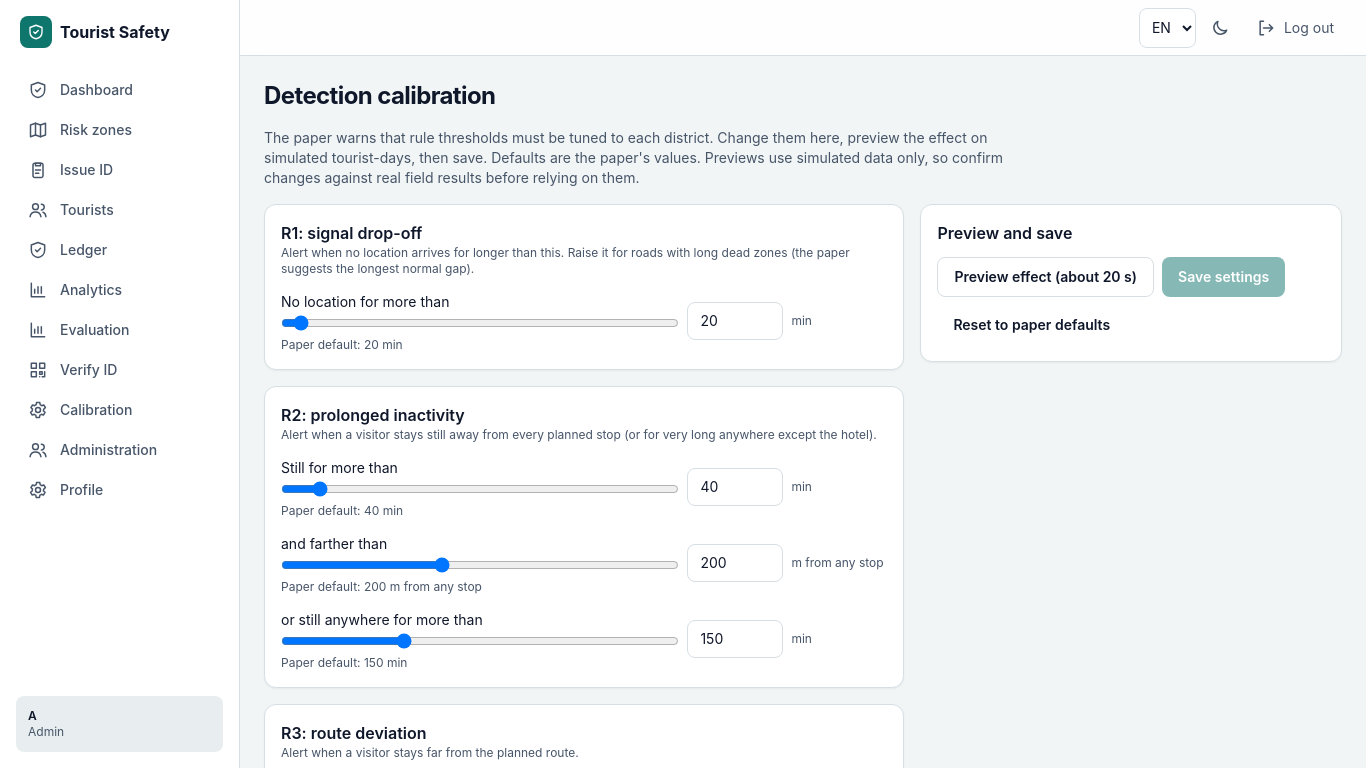
Test: preview and save errors are shown
This screenshot has width=1366, height=768.
Click the button "Preview effect (about 20 s)".
click(1046, 277)  # box [937,257,1154,297]
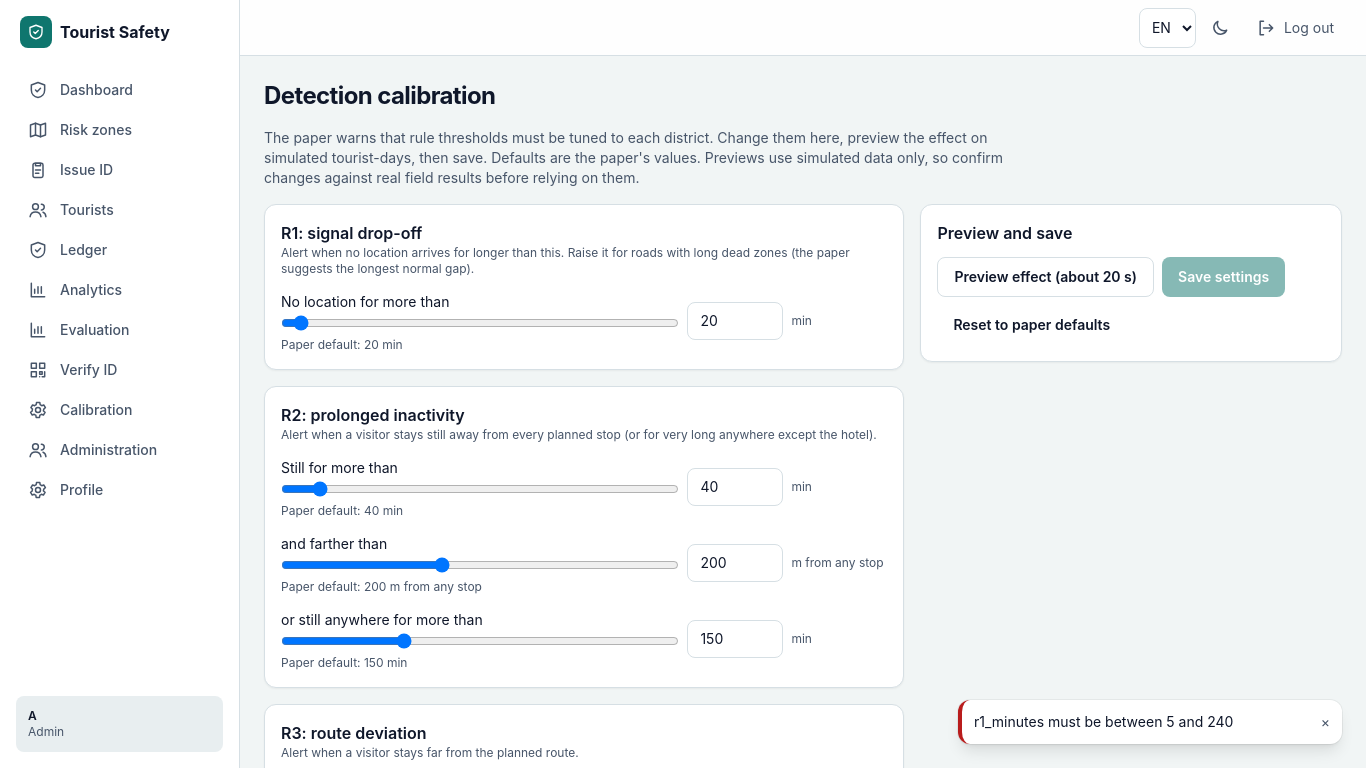
Expected: the message shows "r1_minutes must be between 5 and 240", [974,713,1233,730]
